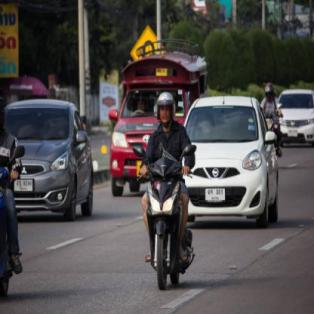Motocicleta: (140, 159, 194, 290)
